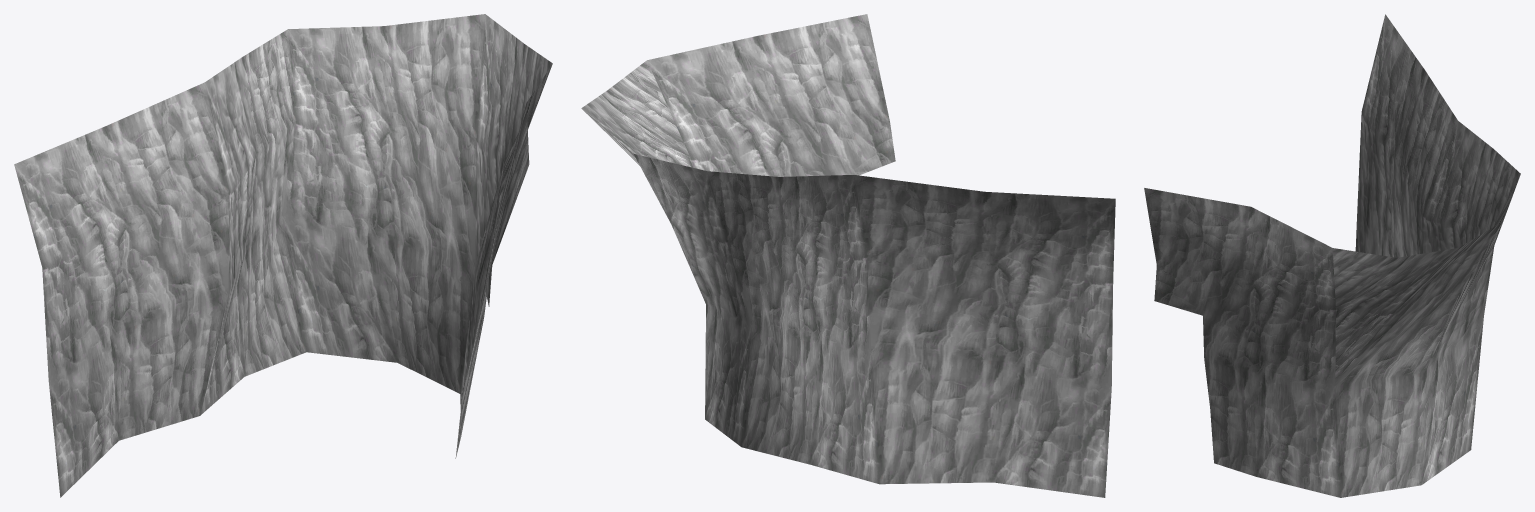
The model's file is SWORDLIGHT20_PS-AREA03_77.fbx.
3 renders of one model, left to right at view 1: azimuth 30°, elevation 25°; view 2: azimuth 150°, elevation 25°; view 3: azimuth 270°, elevation 25°, orthographic. The views are drawn at different scales.
Parts seen in each view (by area): view 1: SWORDLIGHT20_PS-AREA03_77; view 2: SWORDLIGHT20_PS-AREA03_77; view 3: SWORDLIGHT20_PS-AREA03_77.
Boxes of the visible parts, x1=… form: SWORDLIGHT20_PS-AREA03_77: x1=14, y1=14, x2=552, y2=497; SWORDLIGHT20_PS-AREA03_77: x1=581, y1=14, x2=1115, y2=497; SWORDLIGHT20_PS-AREA03_77: x1=1144, y1=14, x2=1520, y2=497.
Size of the model in its own units: 199629 by 123570 by 135723.
Materials: 1 (1 with a texture image).
